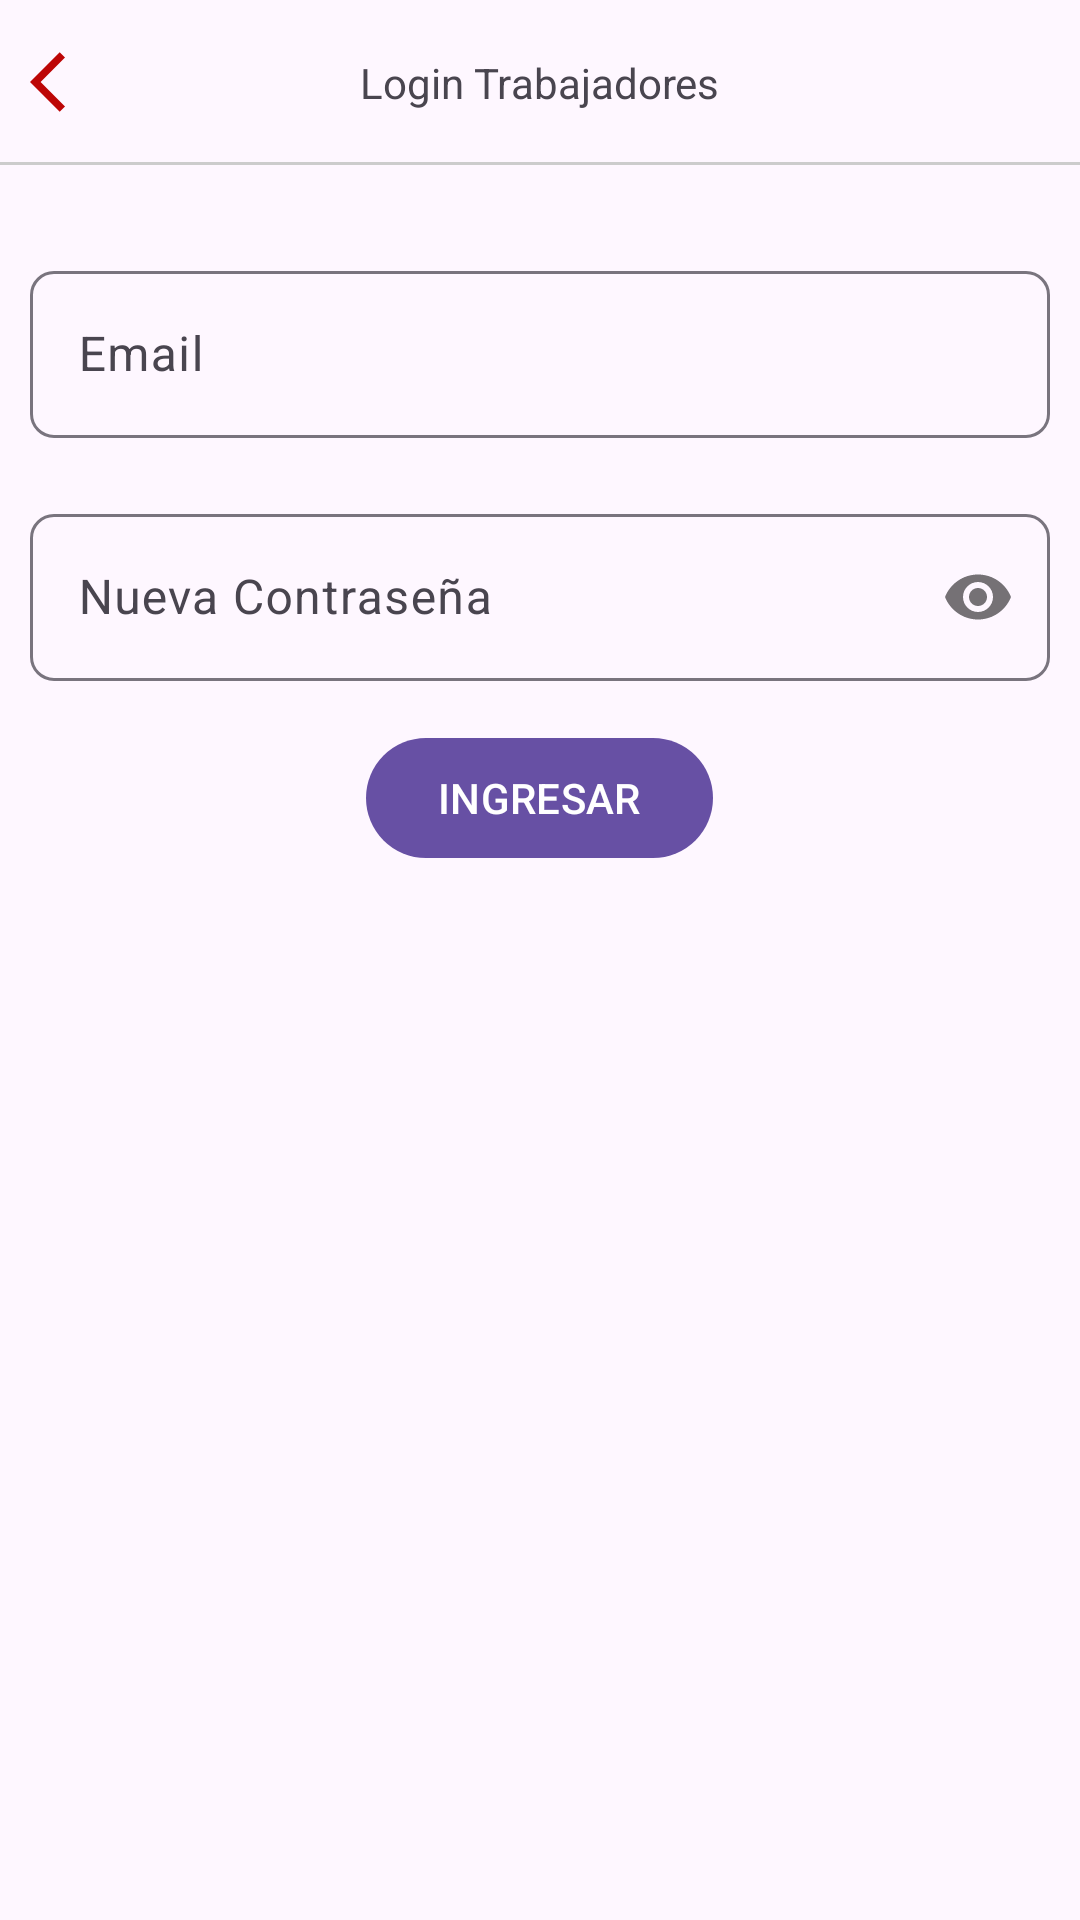

Icons on this 1080px×1920px Android screen, each with the point to tap as (x=x, y=y):
regresar: (x=47, y=82)
